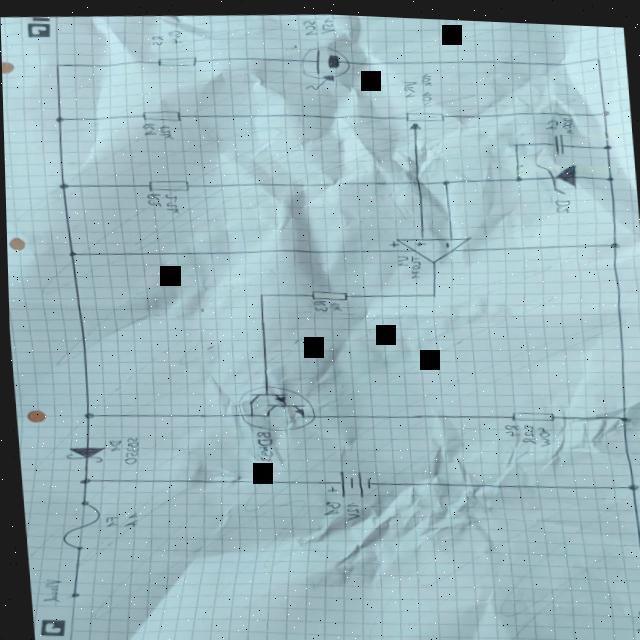capacitor: (551, 127, 565, 150)
crossover: (411, 174, 421, 182)
diode: (536, 154, 577, 191), (61, 442, 104, 463)
junction: (622, 475, 636, 485), (79, 409, 92, 418), (598, 102, 610, 110), (56, 180, 68, 188), (606, 234, 618, 242), (603, 168, 614, 176), (512, 169, 522, 177), (601, 136, 611, 144), (616, 408, 626, 416), (53, 114, 64, 121), (76, 476, 87, 483), (65, 249, 75, 256), (440, 174, 449, 181), (509, 136, 519, 142), (592, 49, 601, 55), (53, 60, 61, 66), (255, 289, 263, 294), (428, 287, 436, 292)
resistor: (401, 104, 446, 128), (507, 402, 553, 418), (146, 174, 189, 191), (140, 105, 180, 121), (155, 52, 196, 66), (308, 284, 347, 298)
source: (322, 464, 369, 497)
terminal: (64, 589, 76, 597), (638, 592, 640, 602)
text: (250, 425, 273, 458), (36, 575, 59, 603), (118, 433, 138, 464), (161, 190, 181, 213), (340, 496, 359, 520), (516, 418, 534, 443), (317, 493, 339, 513), (317, 12, 336, 32), (405, 250, 421, 273), (400, 74, 417, 95), (533, 420, 549, 442), (301, 13, 319, 32), (551, 191, 570, 208), (156, 121, 174, 138), (559, 109, 575, 128), (119, 509, 136, 526), (143, 190, 161, 206), (630, 601, 640, 628), (500, 417, 518, 432), (416, 67, 432, 83), (140, 120, 157, 135), (165, 27, 182, 42), (419, 85, 432, 104), (310, 295, 327, 309), (100, 513, 117, 527), (393, 250, 410, 264), (104, 436, 119, 450), (543, 112, 558, 125), (149, 32, 164, 43), (326, 297, 341, 308)
transistor: (233, 378, 315, 431)
